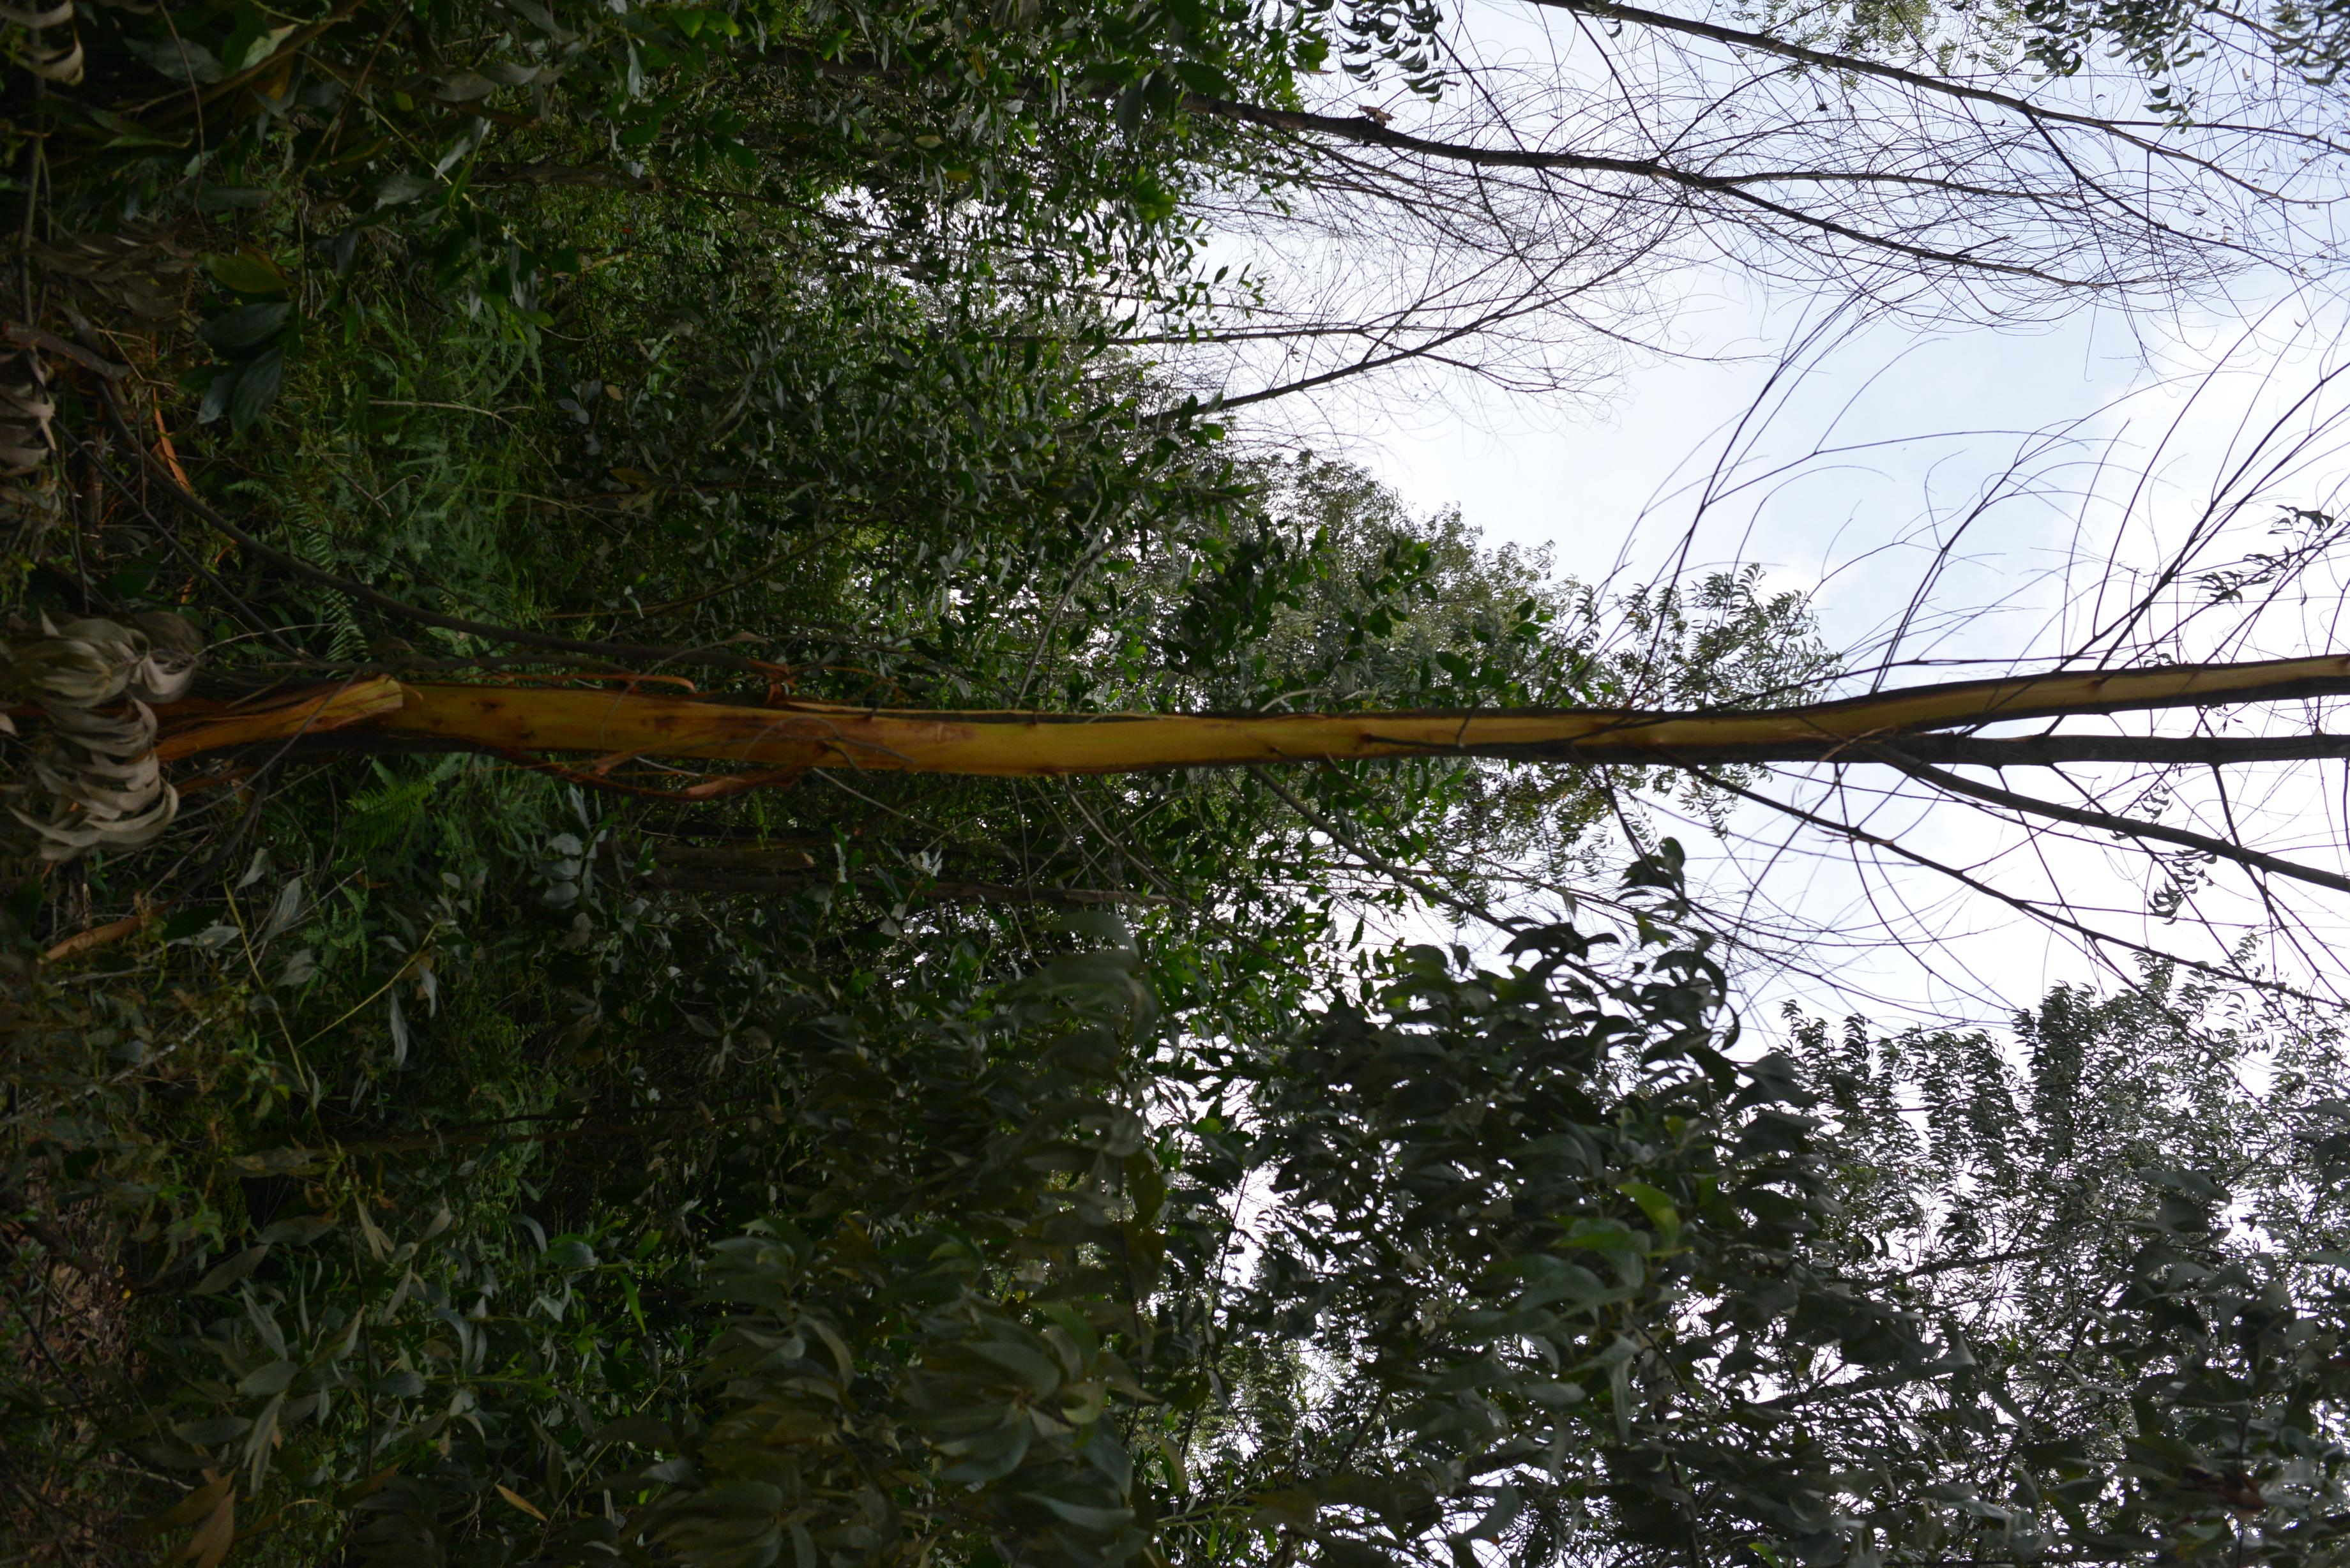Mammals Attack: (161, 670, 2350, 768)
